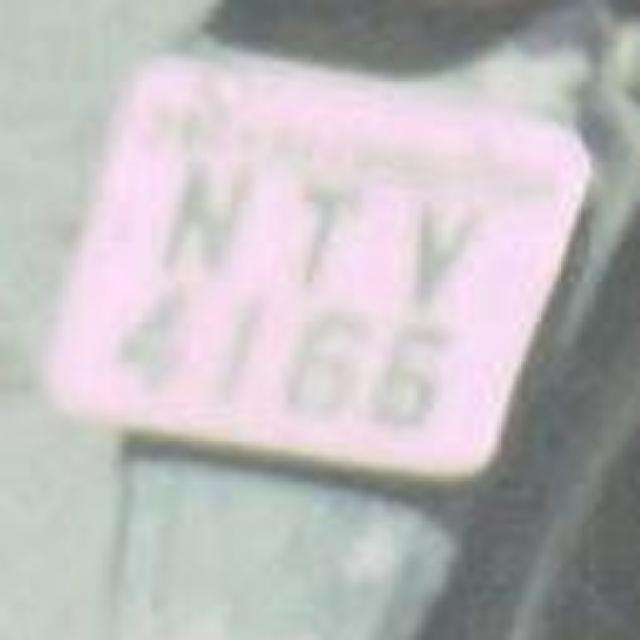4: (95, 271, 200, 404)
6: (356, 315, 472, 440)
N: (152, 136, 252, 289), (408, 184, 488, 316)
T: (272, 184, 376, 296)
